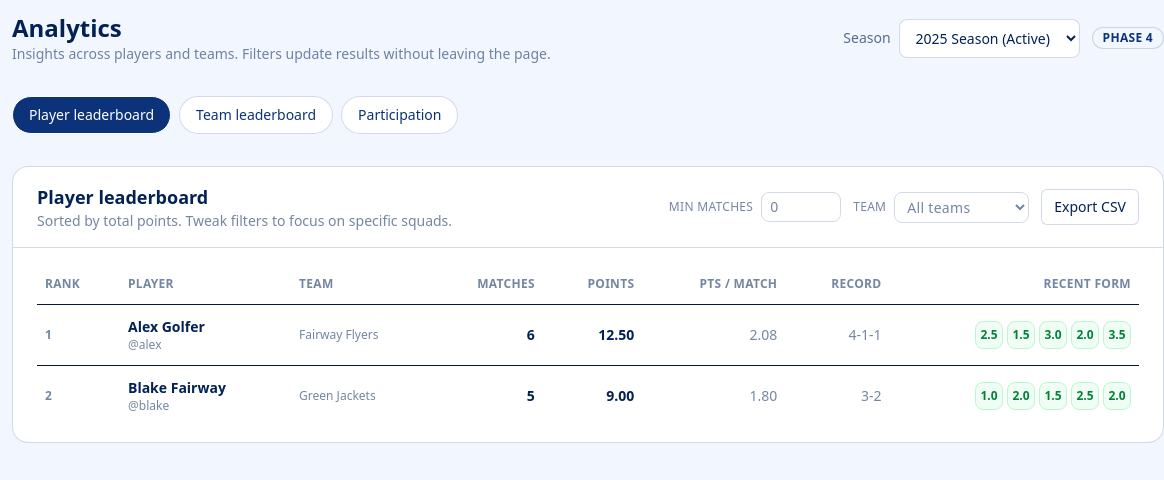
Test case: AnalyticsClient › renders player leaderboard by default and switches tabs
Check: the text "Alex Golfer" is shown, box [128,317,205,336]
Click the button "Team leaderboard": [256, 115] box [179,96,333,134]
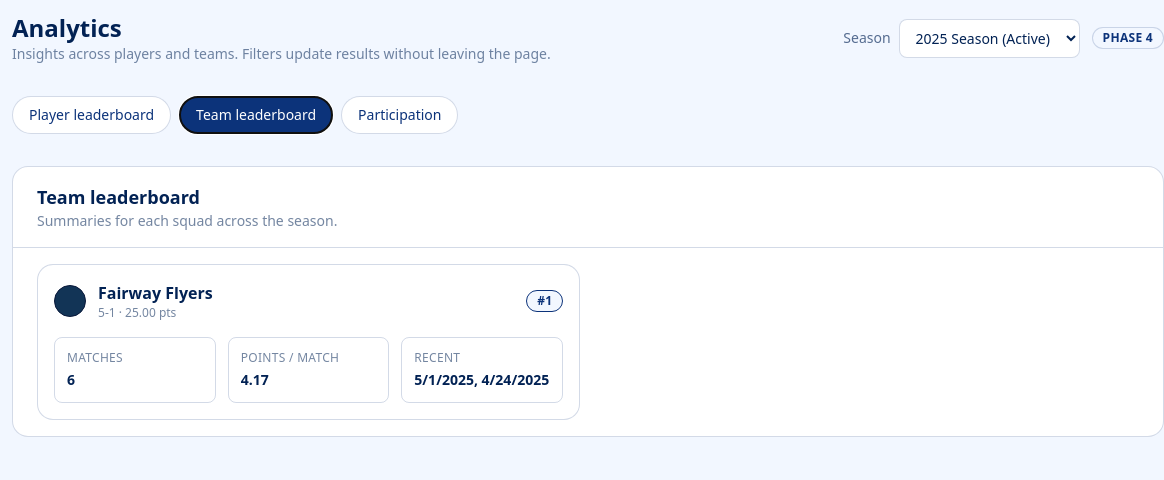
Check: the text "#1" is shown, box [526,290,563,312]
Click the button "Participation": [400, 115] box [341,96,458,134]
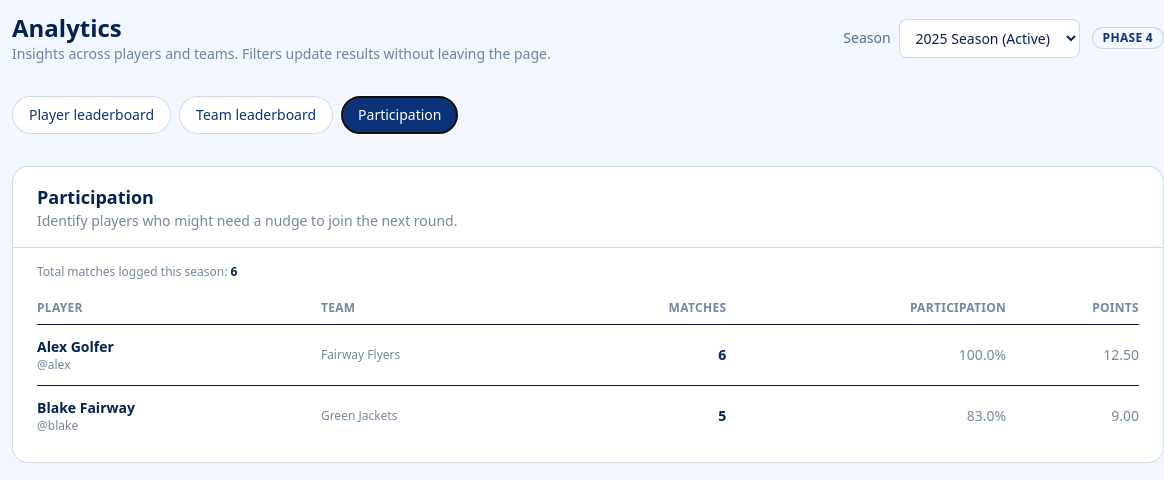
Check: the text "Total matches logged this season: 6" is shown, box [37,263,238,280]
